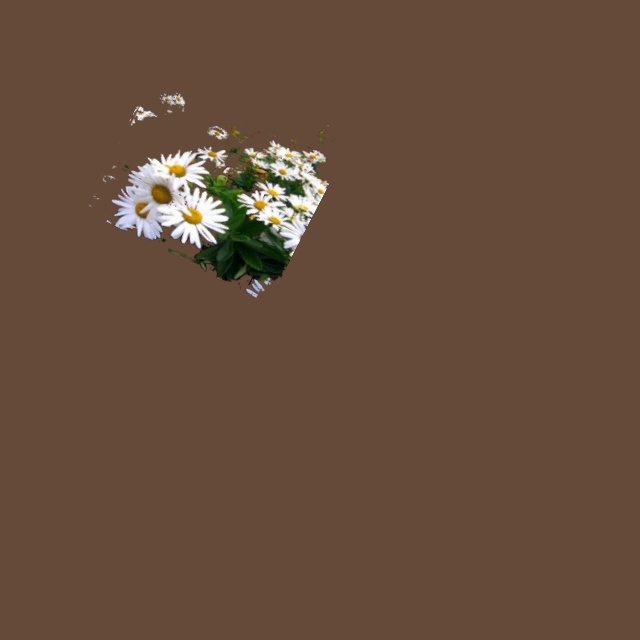daisy: (89, 94, 332, 297)
